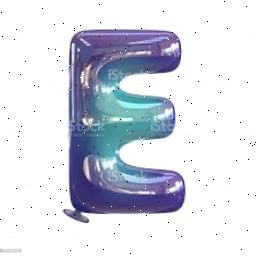e: (61, 28, 191, 216)
